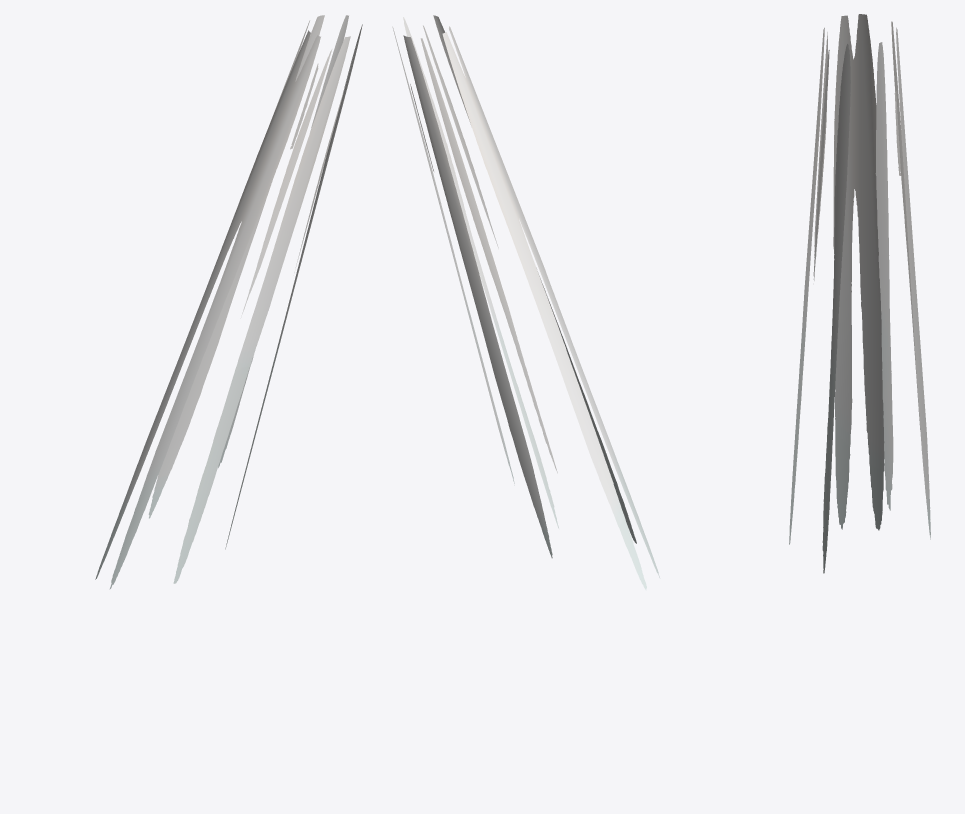
Rendered from Light_model.fbx.
The picture shows the model from 3 angles, left to right: view 1: azimuth 30°, elevation 25°; view 2: azimuth 150°, elevation 25°; view 3: azimuth 270°, elevation 25°; orthographic projection. The views are drawn at different scales.
Visible parts, largest first — view 1: Light_model; view 2: Light_model; view 3: Light_model.
Part boxes in pixels (x1,y1,x2,y2): Light_model: (95, 15, 362, 589); Light_model: (392, 15, 660, 590); Light_model: (789, 14, 930, 573).
Bounding box in the file's own units: 4.49 × 8.71 × 1.61.
